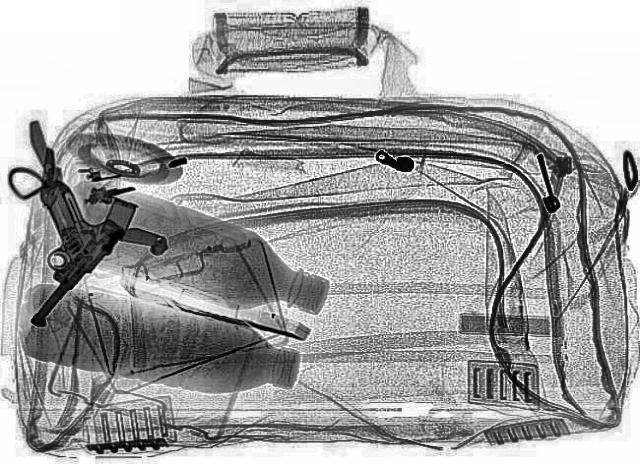Gun: (0, 184, 204, 338), (12, 111, 126, 267)
